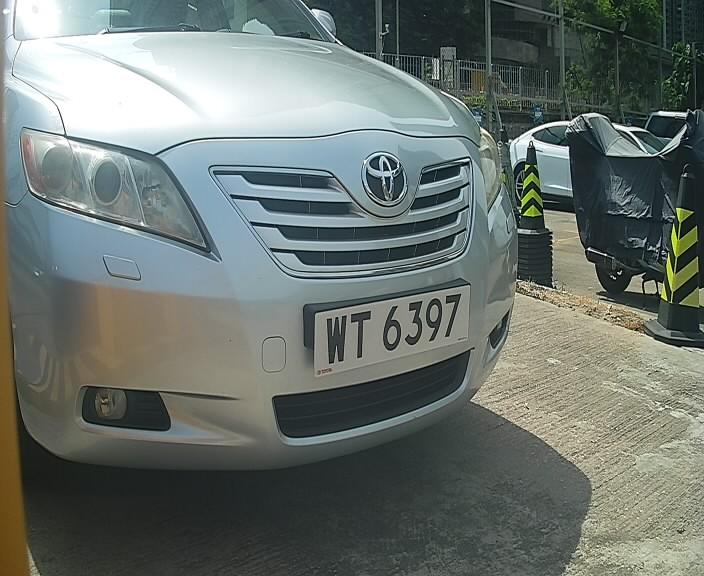License Plate: (299, 276, 466, 386)
